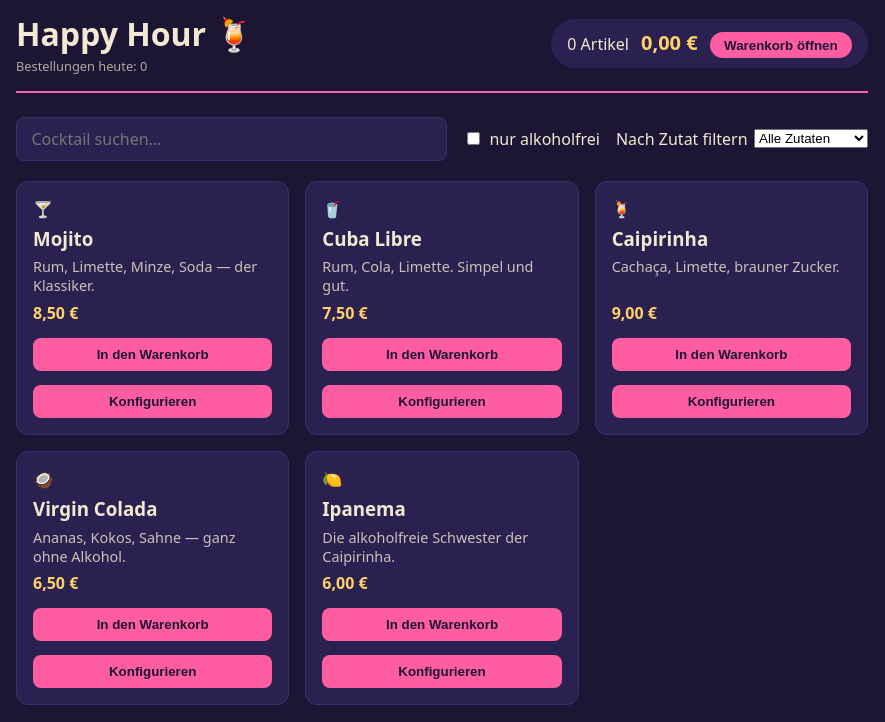
App › erhöht Artikelanzahl und Gesamtpreis beim Hinzufügen eines Cocktails
Click the button "In den Warenkorb" below "8,50 €" at [153, 354], box [33,338,272,371]
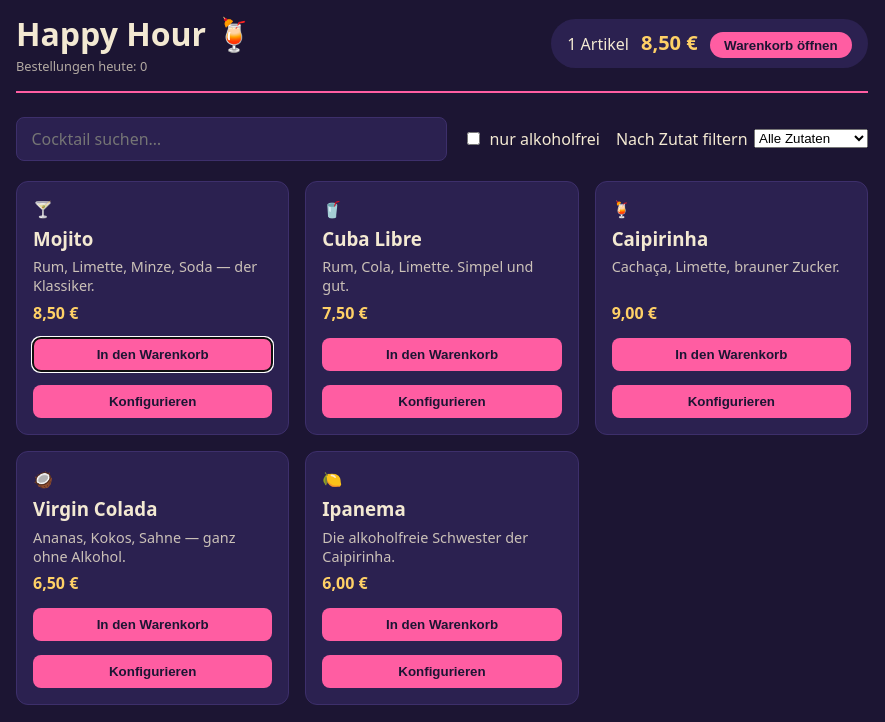
Check: the text "1 Artikel" is shown, box [567,33,629,55]
Check: the text "8,50 €" next to "Artikel" is shown, box [641,29,698,56]
